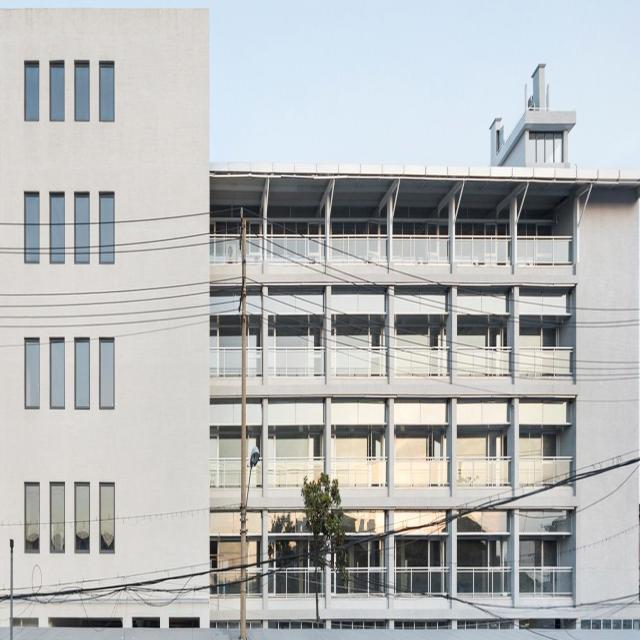Railing: (209, 232, 572, 265), (210, 454, 573, 487), (210, 348, 574, 378), (212, 568, 572, 595)
plant: (302, 473, 346, 584)
wall: (0, 8, 640, 631)
windows: (390, 320, 443, 347), (208, 206, 263, 232), (267, 207, 322, 233), (332, 206, 387, 232), (394, 210, 449, 236), (456, 205, 511, 231), (518, 208, 572, 234), (269, 321, 321, 347), (334, 322, 382, 347), (268, 432, 322, 454), (389, 542, 443, 564), (267, 544, 321, 566), (390, 432, 443, 454), (529, 131, 564, 164), (212, 323, 260, 347), (209, 433, 257, 457), (330, 432, 378, 456), (457, 323, 505, 347), (454, 432, 502, 456), (453, 542, 501, 566), (329, 543, 377, 567), (208, 545, 256, 569), (520, 323, 566, 348), (74, 192, 90, 262), (74, 339, 90, 409), (98, 342, 115, 407), (98, 484, 115, 549), (521, 430, 567, 454), (520, 540, 566, 564), (98, 196, 115, 260), (75, 481, 90, 551), (50, 195, 66, 259), (50, 342, 66, 406), (50, 484, 66, 548), (25, 192, 40, 259), (25, 339, 40, 406), (26, 481, 40, 548), (99, 65, 115, 123), (75, 61, 90, 122), (26, 62, 40, 124), (51, 64, 65, 118)
